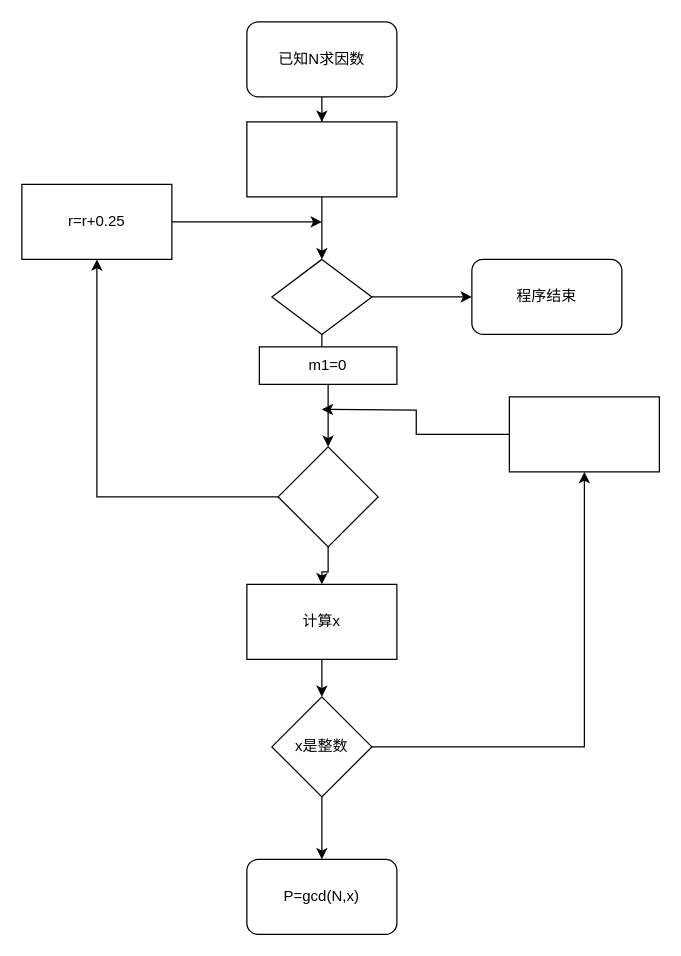
This 681x956 diagram has some shape labels left out. The centre of each missing label's shape, as x and y in pixels:
m1<m: [327,496]
m=m1+1: [583,434]
w<4: [321,296]
w=1,m=log2N: [321,159]
